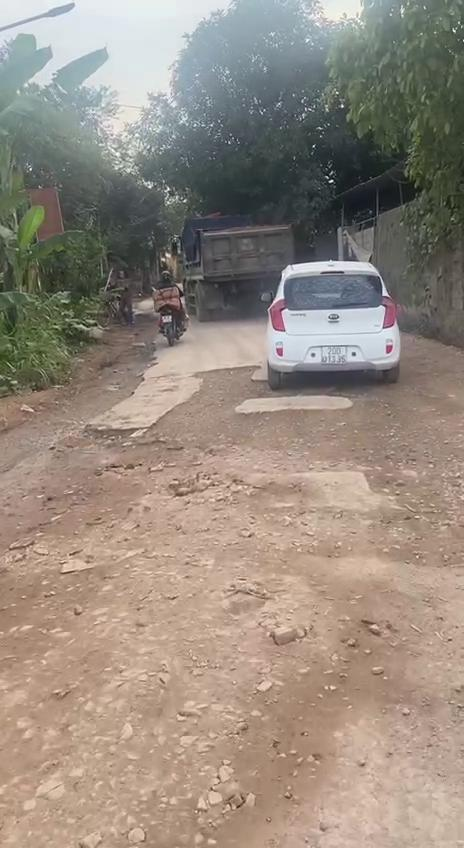pothole: (234, 382, 464, 569), (0, 427, 231, 611), (150, 362, 318, 486)
